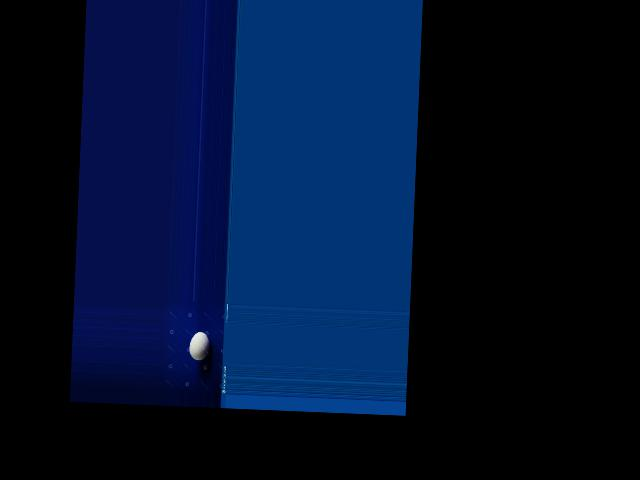egg: (189, 331, 210, 360)
